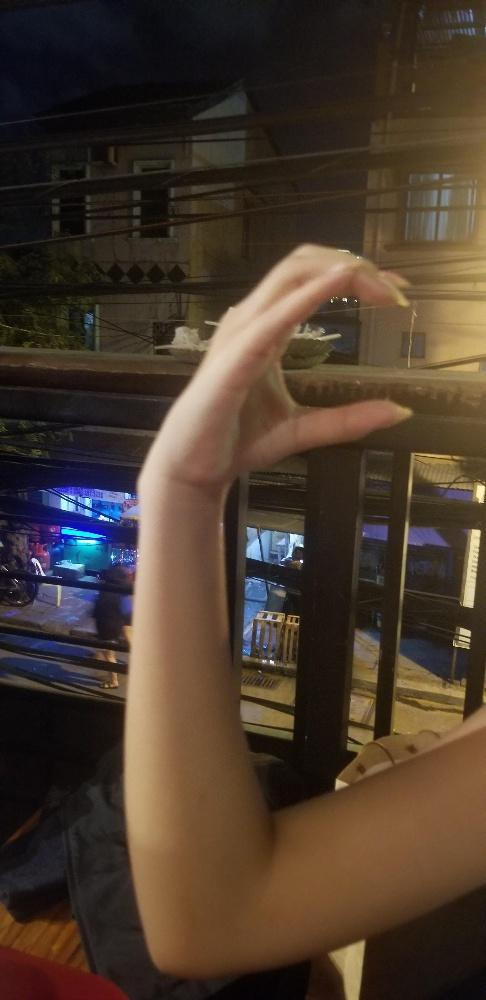c: (170, 238, 420, 490)
